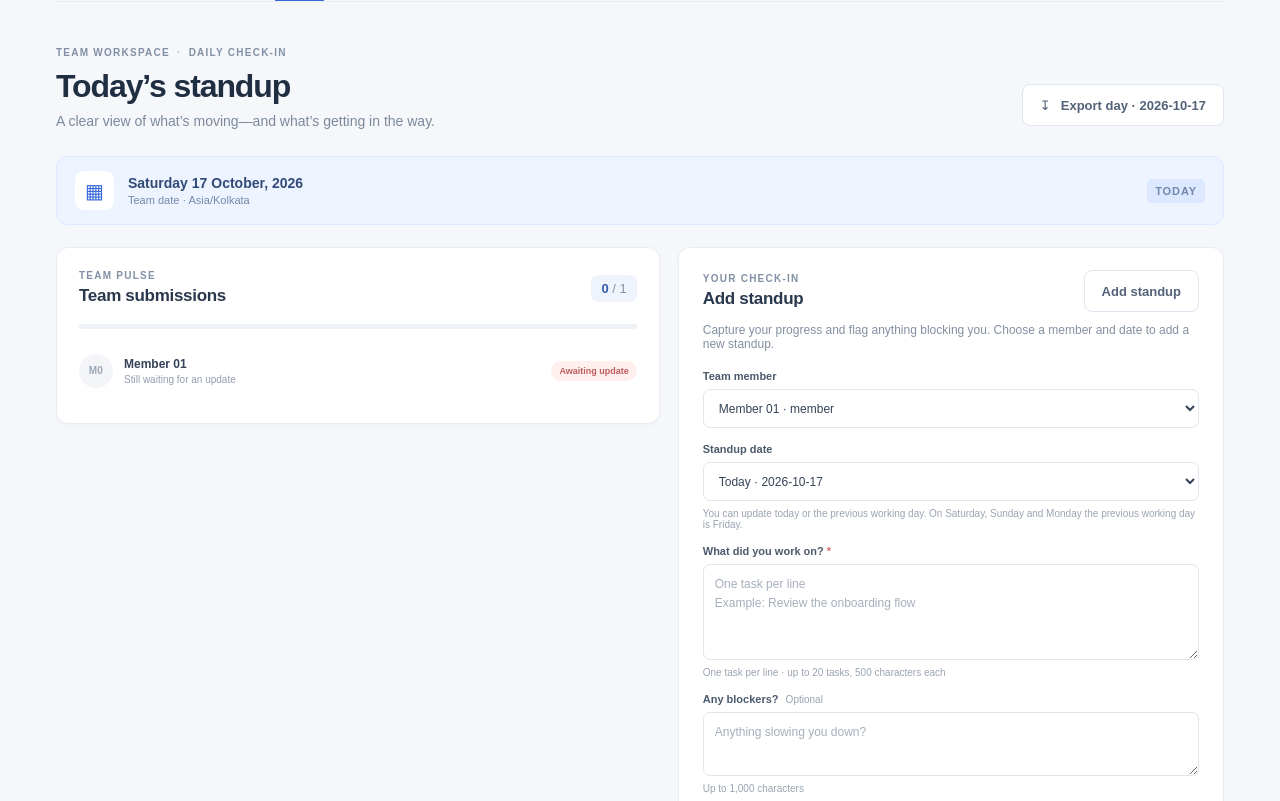
Test: standup UI › submits a missing previous-day entry using POST and keeps the chosen date
The image size is (1280, 801).
Select "Previous working day · 2026-10-16" in the dropdown labelled "Standup date". click: (951, 482)
box: [703,462,1199,501]
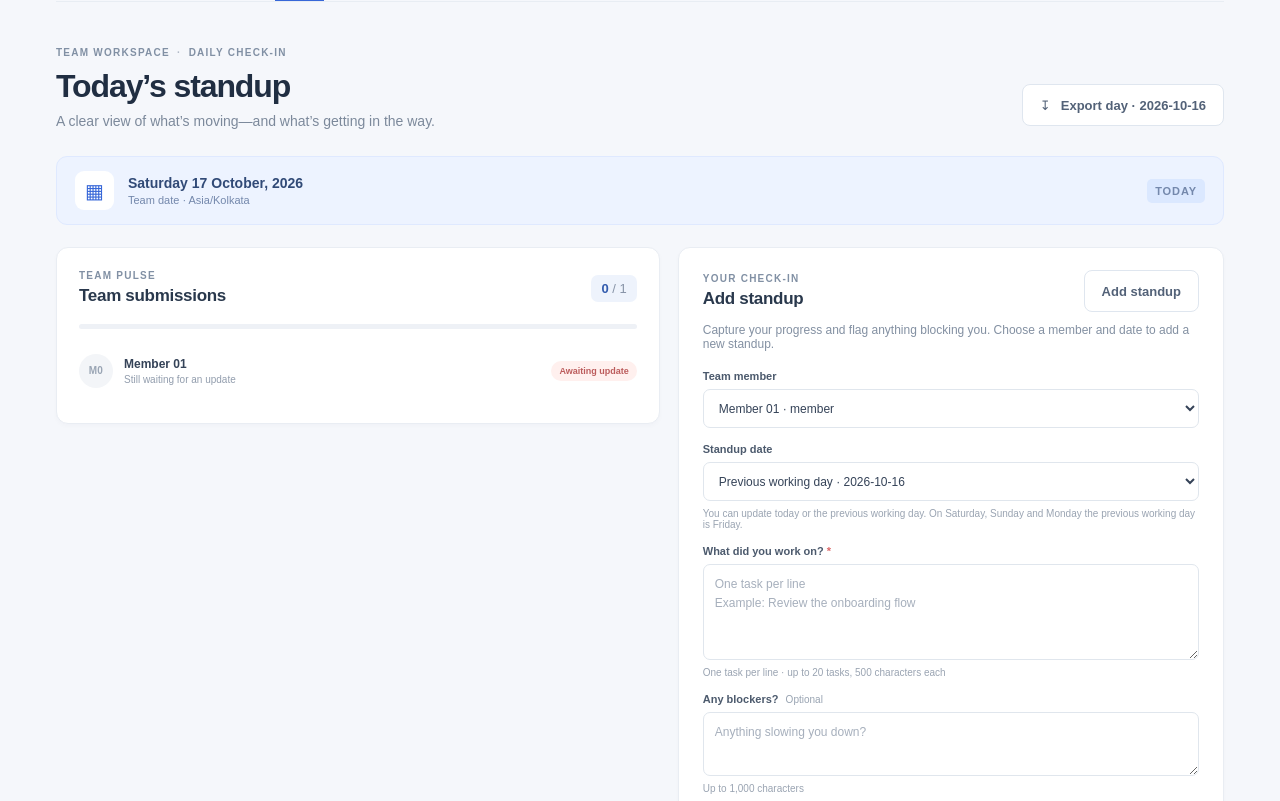
Type "Previous-day saved task" into the text box labelled "What did you work on? *". click: (951, 612)
box: [703,564,1199,660]
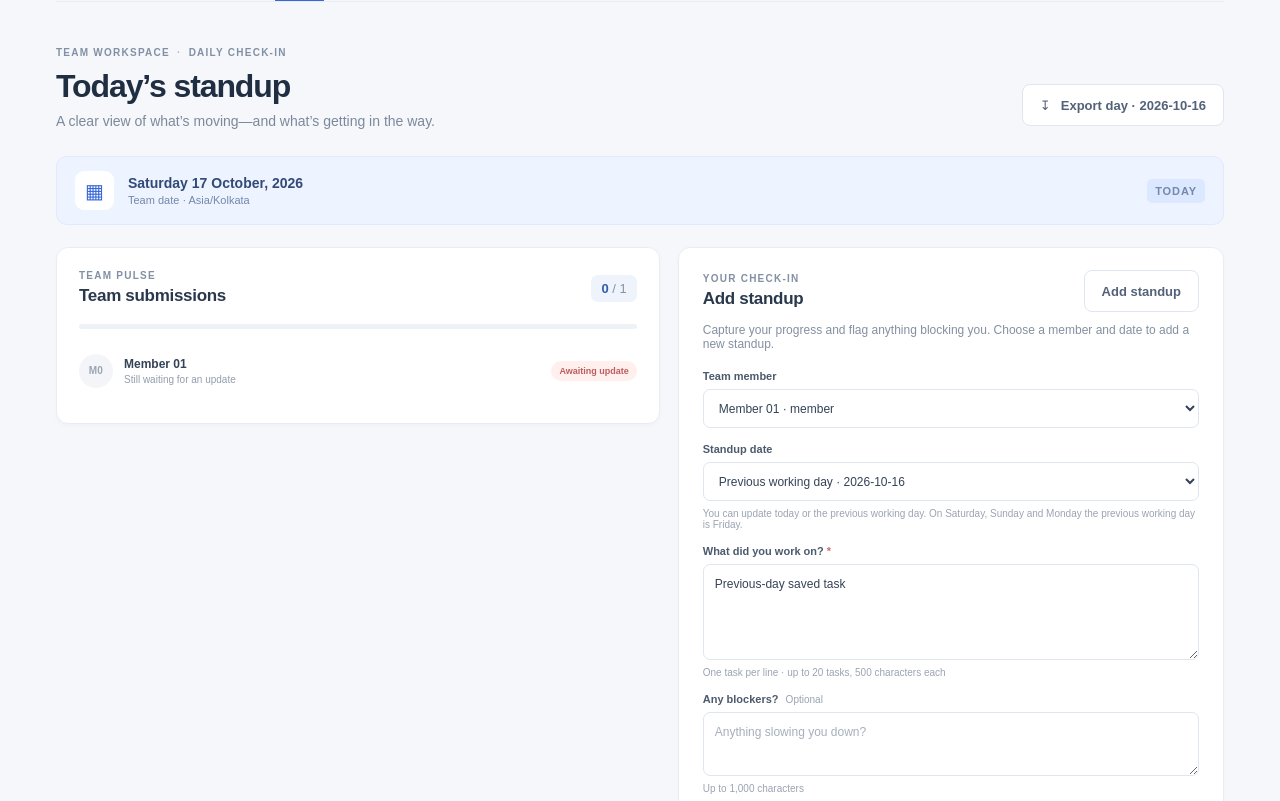
Type "Original blocker" into the text box labelled "Any blockers? Optional". click: (951, 744)
box: [703,712,1199,776]
(page scrolled)
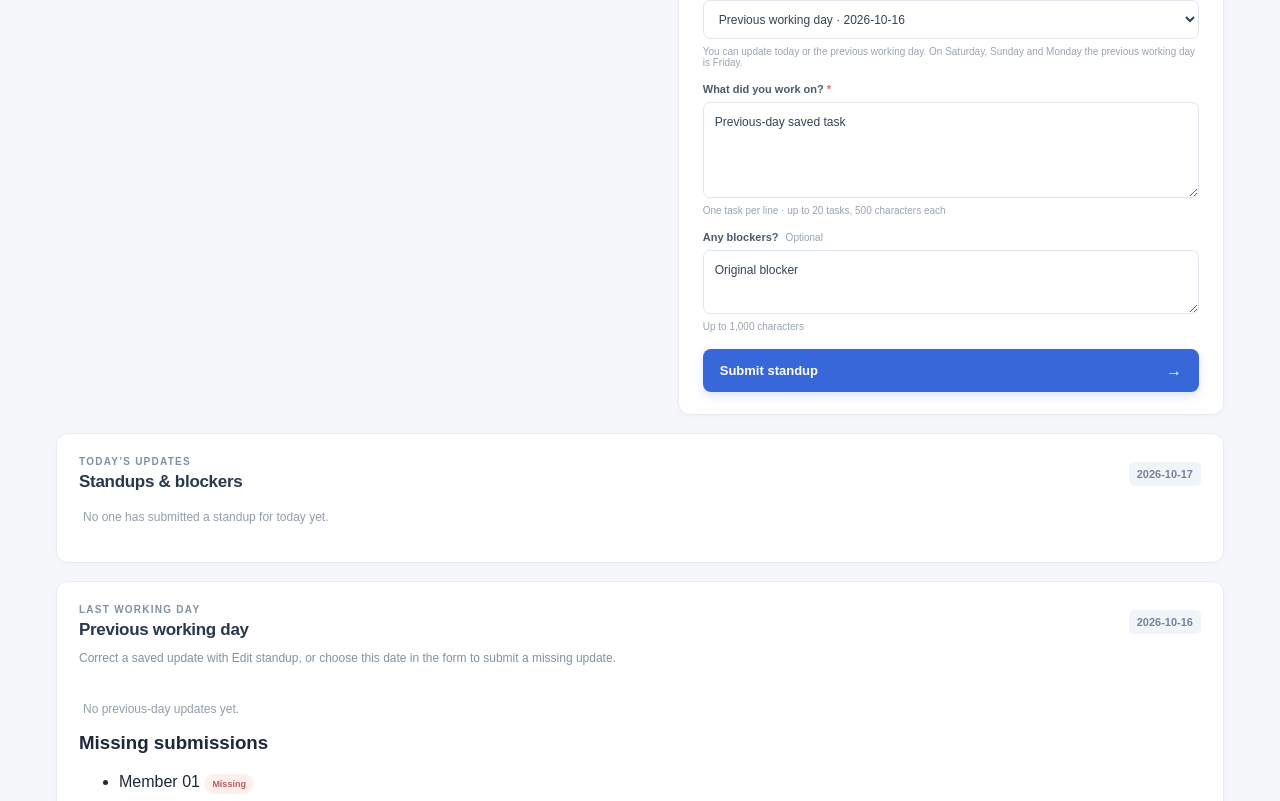
Click the button "Submit standup →". click: (769, 371)
box: [703,349,1199,392]
(page scrolled)
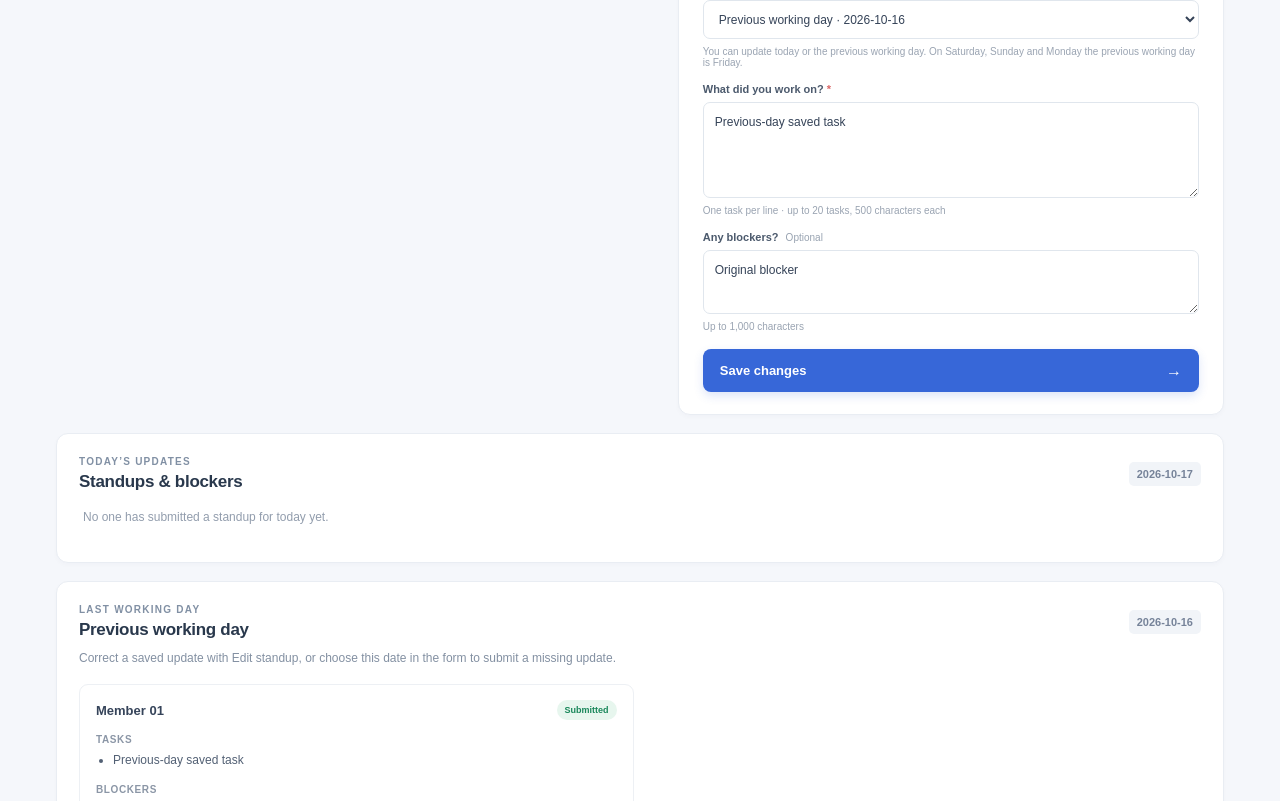
Result: the button "Save changes →" is shown at [703,349,1199,392]
